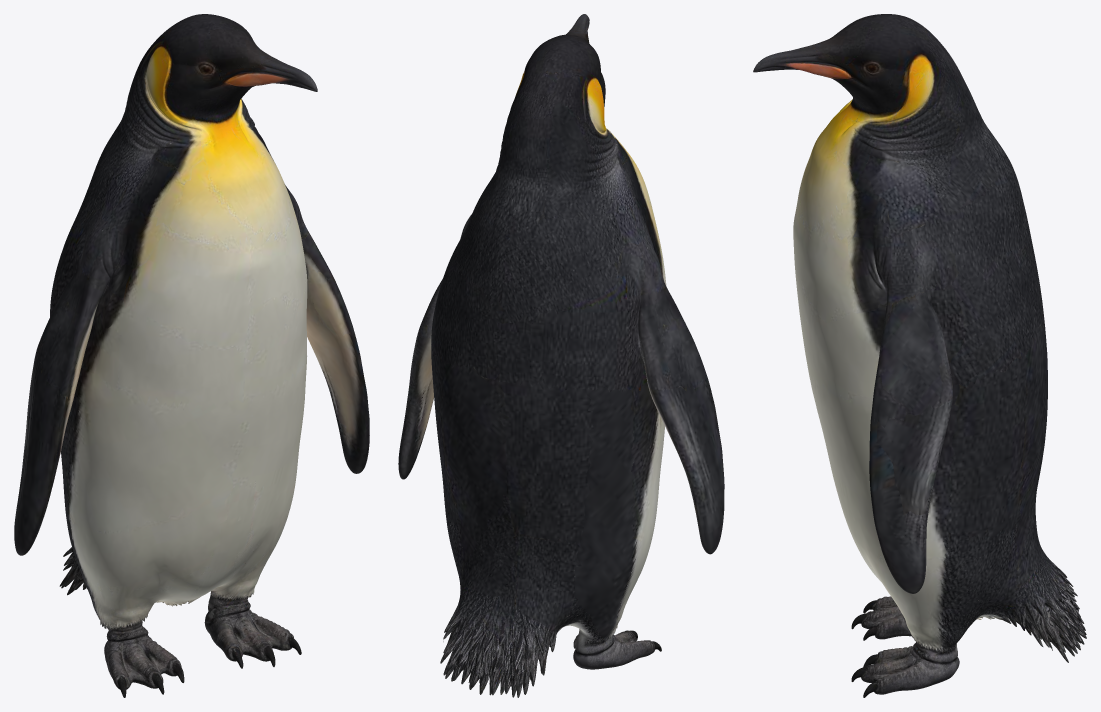
Rendered from penguin-realistic.glb.
The picture shows the model from 3 angles, left to right: view 1: azimuth 30°, elevation 25°; view 2: azimuth 150°, elevation 25°; view 3: azimuth 270°, elevation 25°; orthographic projection. The views are drawn at different scales.
Parts seen in each view (by area): view 1: penguin; view 2: penguin; view 3: penguin.
Boxes of the visible parts, left/top/right/bottom form: penguin: left=14, top=14, right=369, bottom=697; penguin: left=398, top=14, right=724, bottom=697; penguin: left=753, top=14, right=1086, bottom=697.
Bounding box in the file's own units: 0.64 × 1.15 × 0.5424.
Materials: 1 (1 with a texture image).
